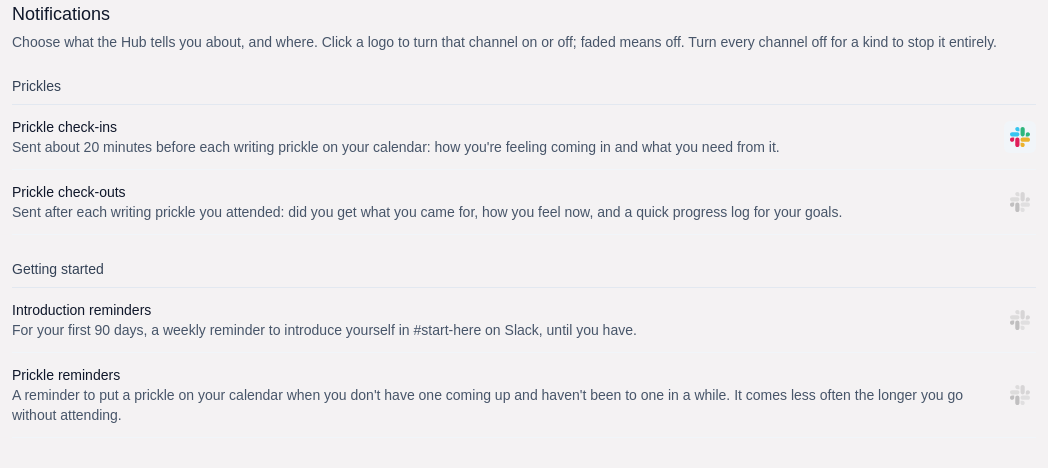
NotificationsPanel › reverts a switch whose save failed and says so
What coordinates should you click on to do the following:
click the button named "Prickle check-ins via Slack"
I would click on:
 (1020, 137)
Its box is [1004, 121, 1036, 153].
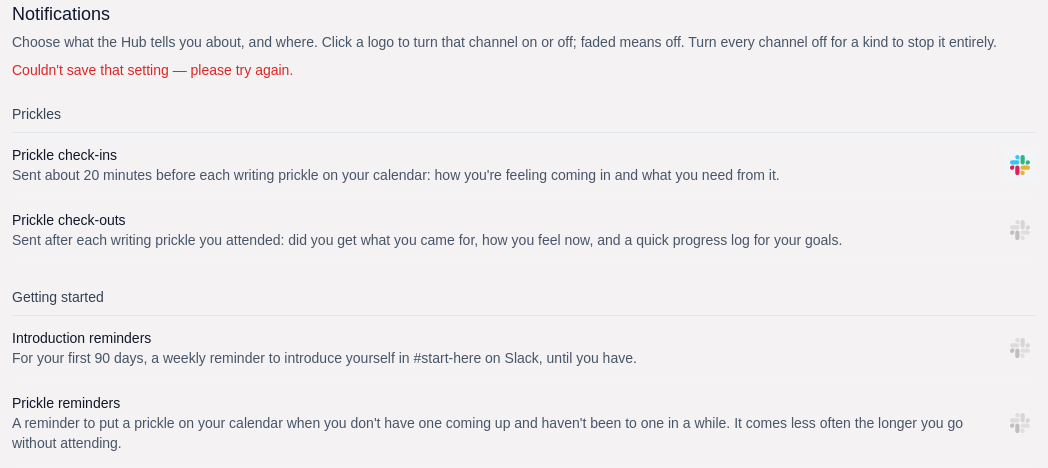
Result: the message shows "Couldn't save" at [12, 62, 293, 78]
